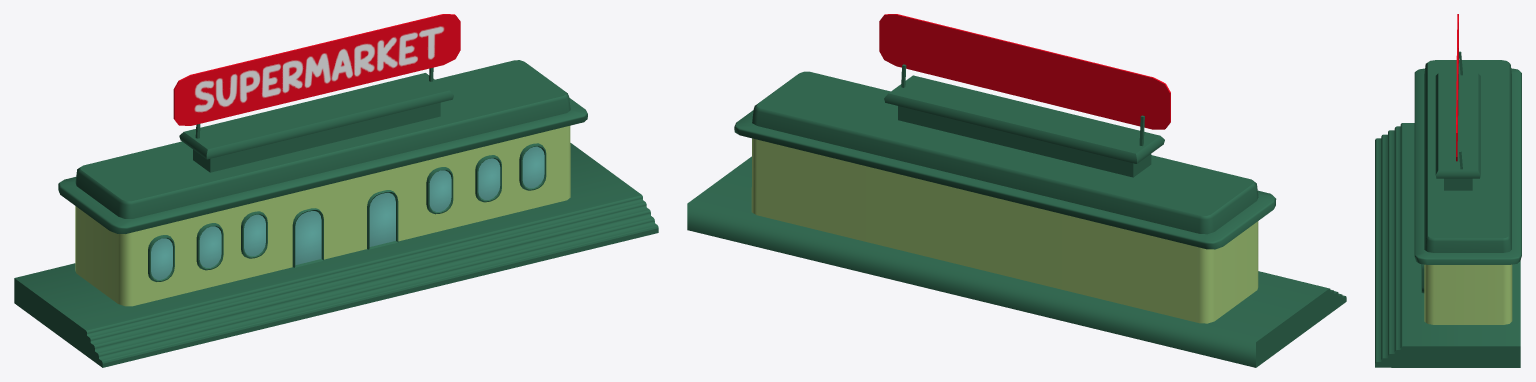
Rendered from SM_Supermarket2.fbx.
3 renders of one model, left to right at view 1: azimuth 30°, elevation 25°; view 2: azimuth 150°, elevation 25°; view 3: azimuth 270°, elevation 25°, orthographic. The views are drawn at different scales.
Visible parts, largest first — view 1: SM_Supermarket2; view 2: SM_Supermarket2; view 3: SM_Supermarket2.
Boxes of the visible parts, box(x1,y1,x2,y2) form: SM_Supermarket2: box(14, 14, 658, 367); SM_Supermarket2: box(687, 14, 1346, 367); SM_Supermarket2: box(1375, 14, 1521, 367).
Bounding box in the file's own units: 2889 × 1108 × 802.
